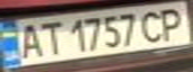1: (63, 16, 87, 53)
5: (100, 11, 124, 48)
7: (118, 9, 142, 46), (81, 13, 103, 51)
A: (12, 20, 45, 60)
C: (136, 7, 169, 43)
P: (154, 3, 193, 42)
T: (36, 18, 66, 56)
